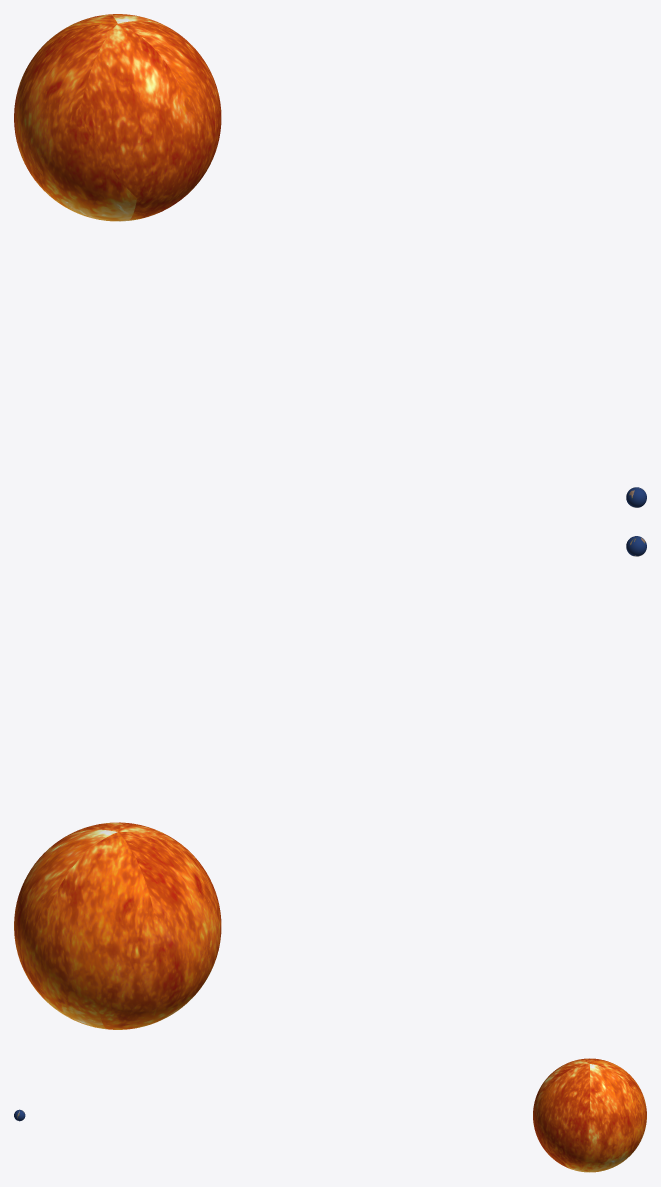
The model's file is erde.glb.
3 renders of one model, top to bottom at view 1: azimuth 30°, elevation 25°; view 2: azimuth 150°, elevation 25°; view 3: azimuth 270°, elevation 25°, orthographic. The views are drawn at different scales.
Parts seen in each view (by area): view 1: Sonne; view 2: Sonne; view 3: Sonne.
Part boxes in pixels (box(x1,y1,x2,y2)): Sonne: box(14, 14, 221, 221); Sonne: box(14, 822, 221, 1029); Sonne: box(533, 1058, 646, 1172).
Size of the model in its own units: 2 by 2 by 11.1.
2 materials, 2 textured.
